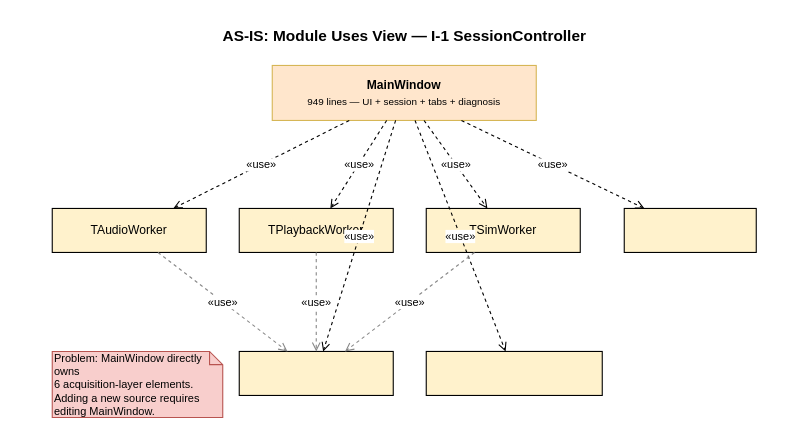
Some shapes in this 807 by 437 pixel diagram are drawn without their labels. The shapes that lost their labels are listed below. From the top down, each one's box as (x1, y1, x2, y2) in pixels, then its label:
(623, 207, 756, 252): Logger
(238, 350, 393, 395): DSPWorker
(425, 350, 602, 395): TMasterAudioDataRaw
